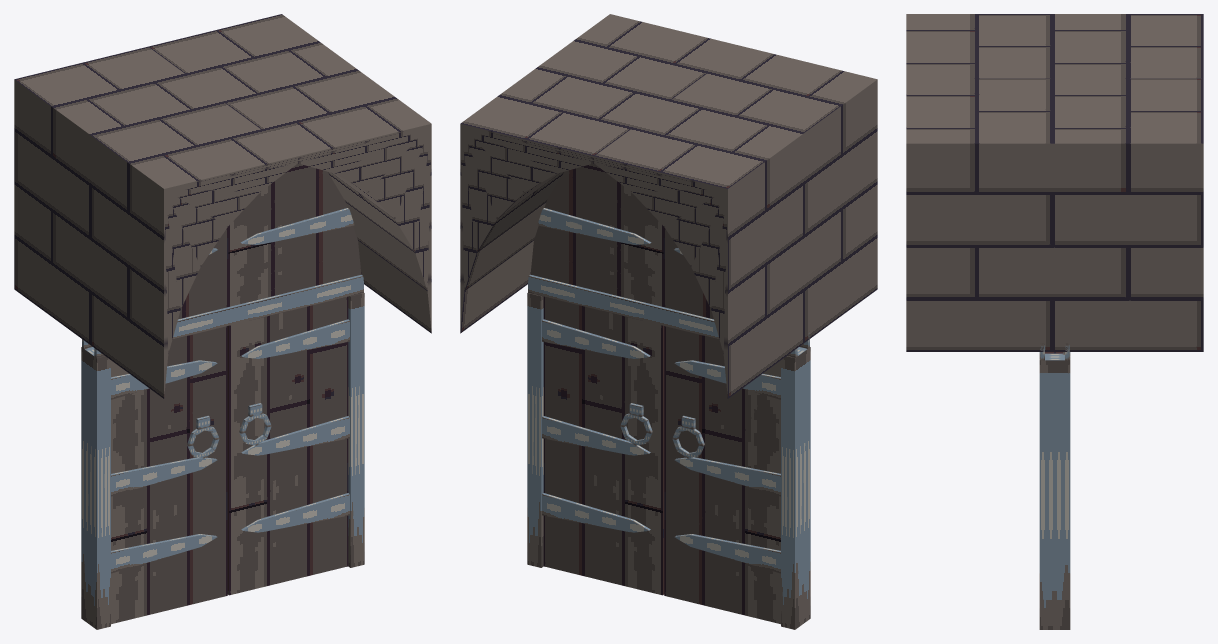
File: door_normal.glb
The picture shows the model from 3 angles, left to right: view 1: azimuth 30°, elevation 25°; view 2: azimuth 150°, elevation 25°; view 3: azimuth 270°, elevation 25°; orthographic projection.
Parts seen in each view (by area): view 1: portal, leaf_a, leaf_b; view 2: portal, leaf_a, leaf_b; view 3: portal.
Boxes of the visible parts, x1=… form: portal: x1=14, y1=14, x2=431, y2=629; leaf_a: x1=227, y1=296, x2=349, y2=595; leaf_b: x1=111, y1=326, x2=227, y2=624; portal: x1=460, y1=14, x2=877, y2=629; leaf_a: x1=542, y1=296, x2=664, y2=595; leaf_b: x1=664, y1=326, x2=780, y2=624; portal: x1=906, y1=14, x2=1203, y2=629.
Size of the model in its own units: 2 by 3.5 by 1.94.
Materials: 1 (1 with a texture image).
